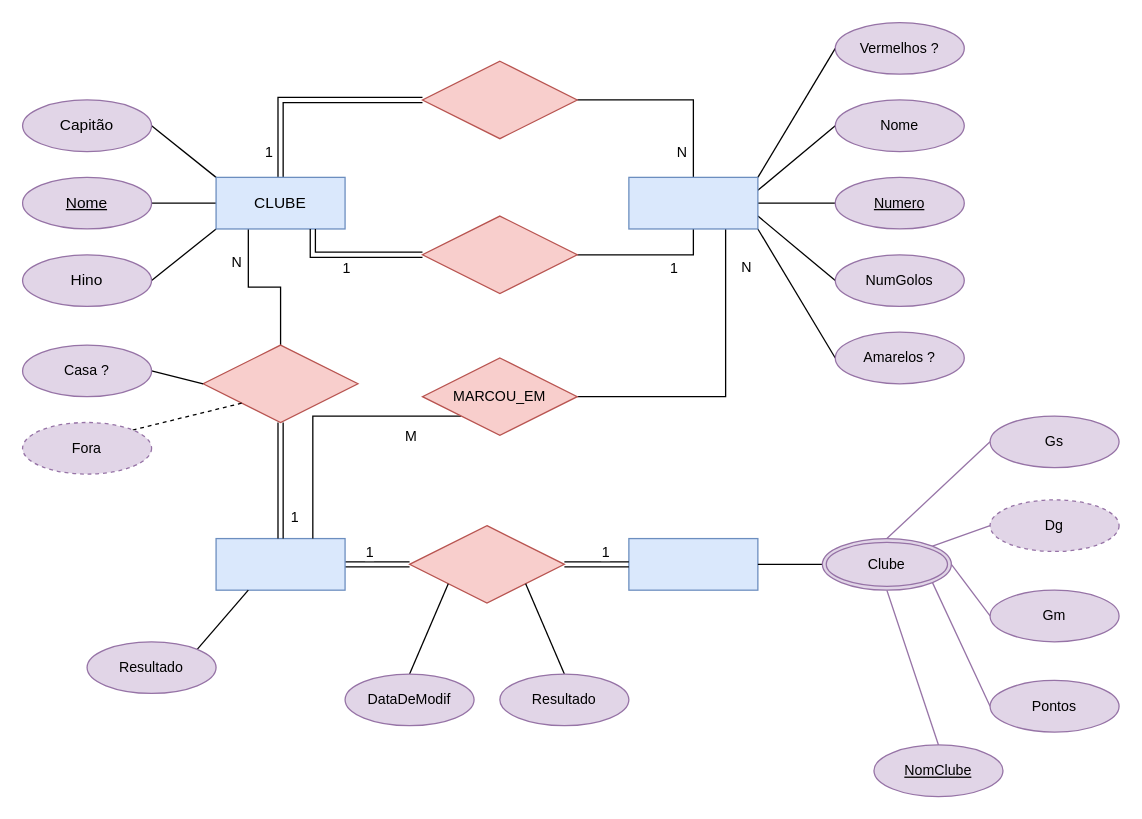
Image size: 1142x819. Some labels were removed from this diagram. Here are the shapes that lost their labels. From the top down, the centre of each, then its label:
the point at 499,99: FAZPARTE_DE
the point at 693,202: JOGADOR
the point at 499,254: CAPITÃO_DE
the point at 280,383: JOGA_EM
the point at 280,563: JOGO
the point at 486,563: MODIFICOU
the point at 693,563: TABELA
